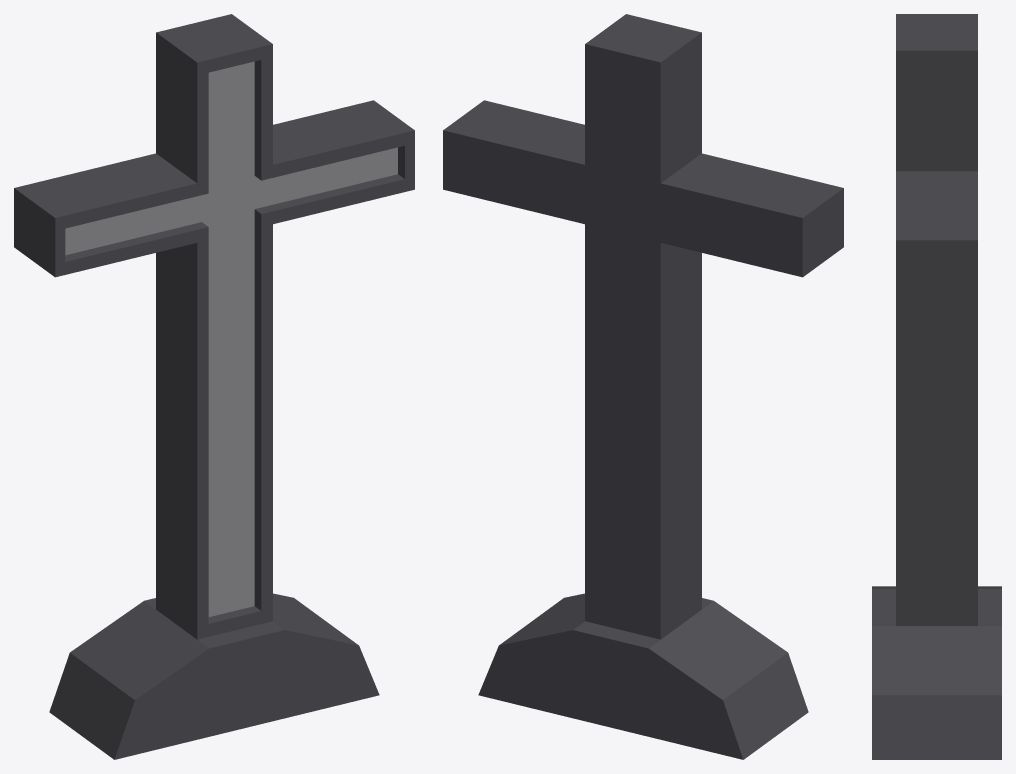
The model's file is TombStone04.glb.
3 renders of one model, left to right at view 1: azimuth 30°, elevation 25°; view 2: azimuth 150°, elevation 25°; view 3: azimuth 270°, elevation 25°, orthographic.
Parts seen in each view (by area): view 1: TombStone04; view 2: TombStone04; view 3: TombStone04.
Boxes of the visible parts, bbox=[...] form: TombStone04: bbox=[14, 14, 414, 759]; TombStone04: bbox=[443, 14, 843, 759]; TombStone04: bbox=[872, 14, 1001, 759].
Size of what is drawn, in the model's own units: 0.9237 by 1.63 by 0.29.
Materials: 1 (1 with a texture image).
